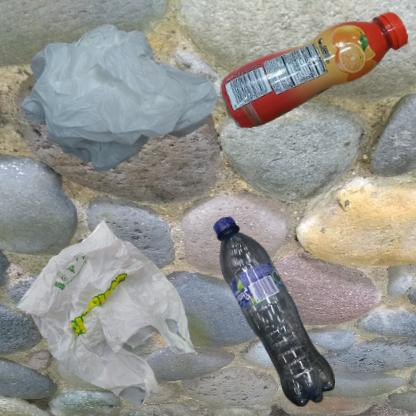bolsa: (10, 10, 239, 201), (10, 213, 202, 416)
botella: (213, 10, 416, 138), (213, 213, 336, 412)
